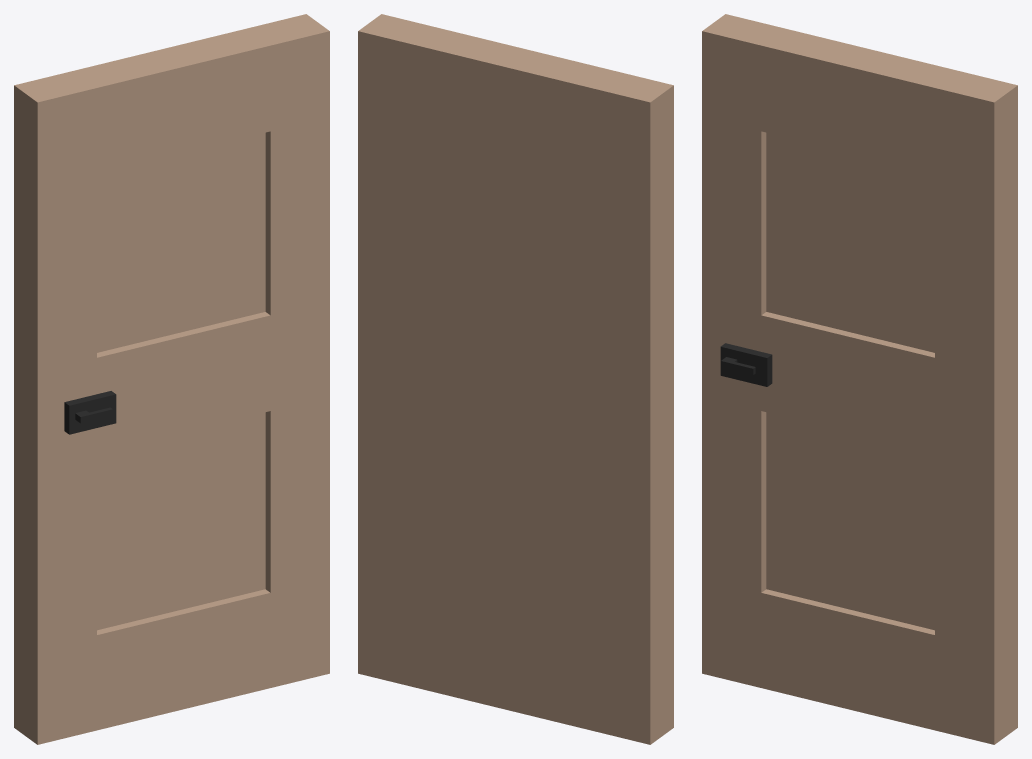
The model's file is closetDoor01.gltf.
3 views of the same model, side by side, from view 1: azimuth 30°, elevation 25°; view 2: azimuth 150°, elevation 25°; view 3: azimuth 330°, elevation 25° (orthographic).
Parts seen in each view (by area): view 1: door, handle; view 2: door; view 3: door, handle.
Boxes of the visible parts, box(x1,y1,x2,y2) form: door: box(14, 14, 329, 744); handle: box(64, 391, 116, 434); door: box(358, 14, 673, 744); door: box(702, 14, 1017, 744); handle: box(720, 343, 772, 386).
Size of the model in its own units: 0.3745 by 0.7865 by 0.079.
1 material, 1 textured.
